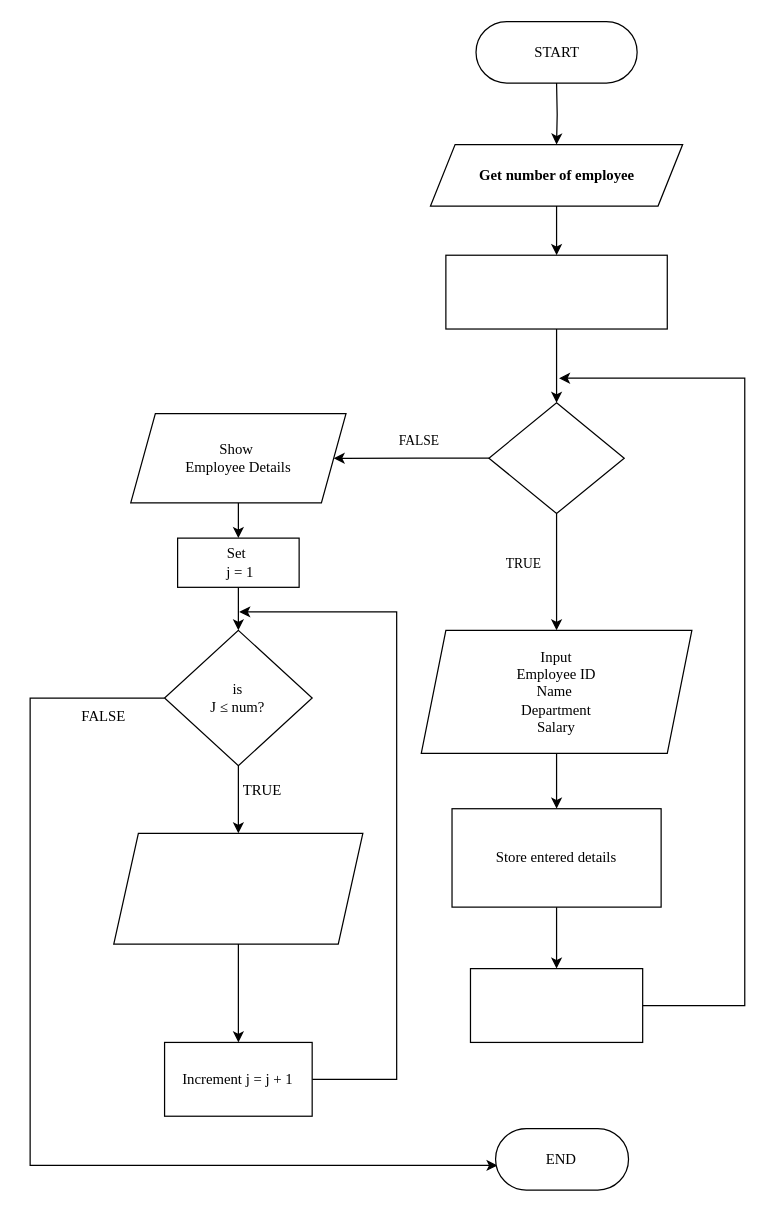
This 776x1212 diagram has some shape labels left out. The shapes that lost their labels are listed below. From the top down, each one's centre as x and y in pixels, then its label:
At (x=556, y=291): "(Initialize counter) set i = 1".
At (x=556, y=458): "Is i ≤ num?".
At (x=238, y=888): "Display Employee ID Name Department Salary".
At (x=556, y=1004): "Increment i = i + 1".
